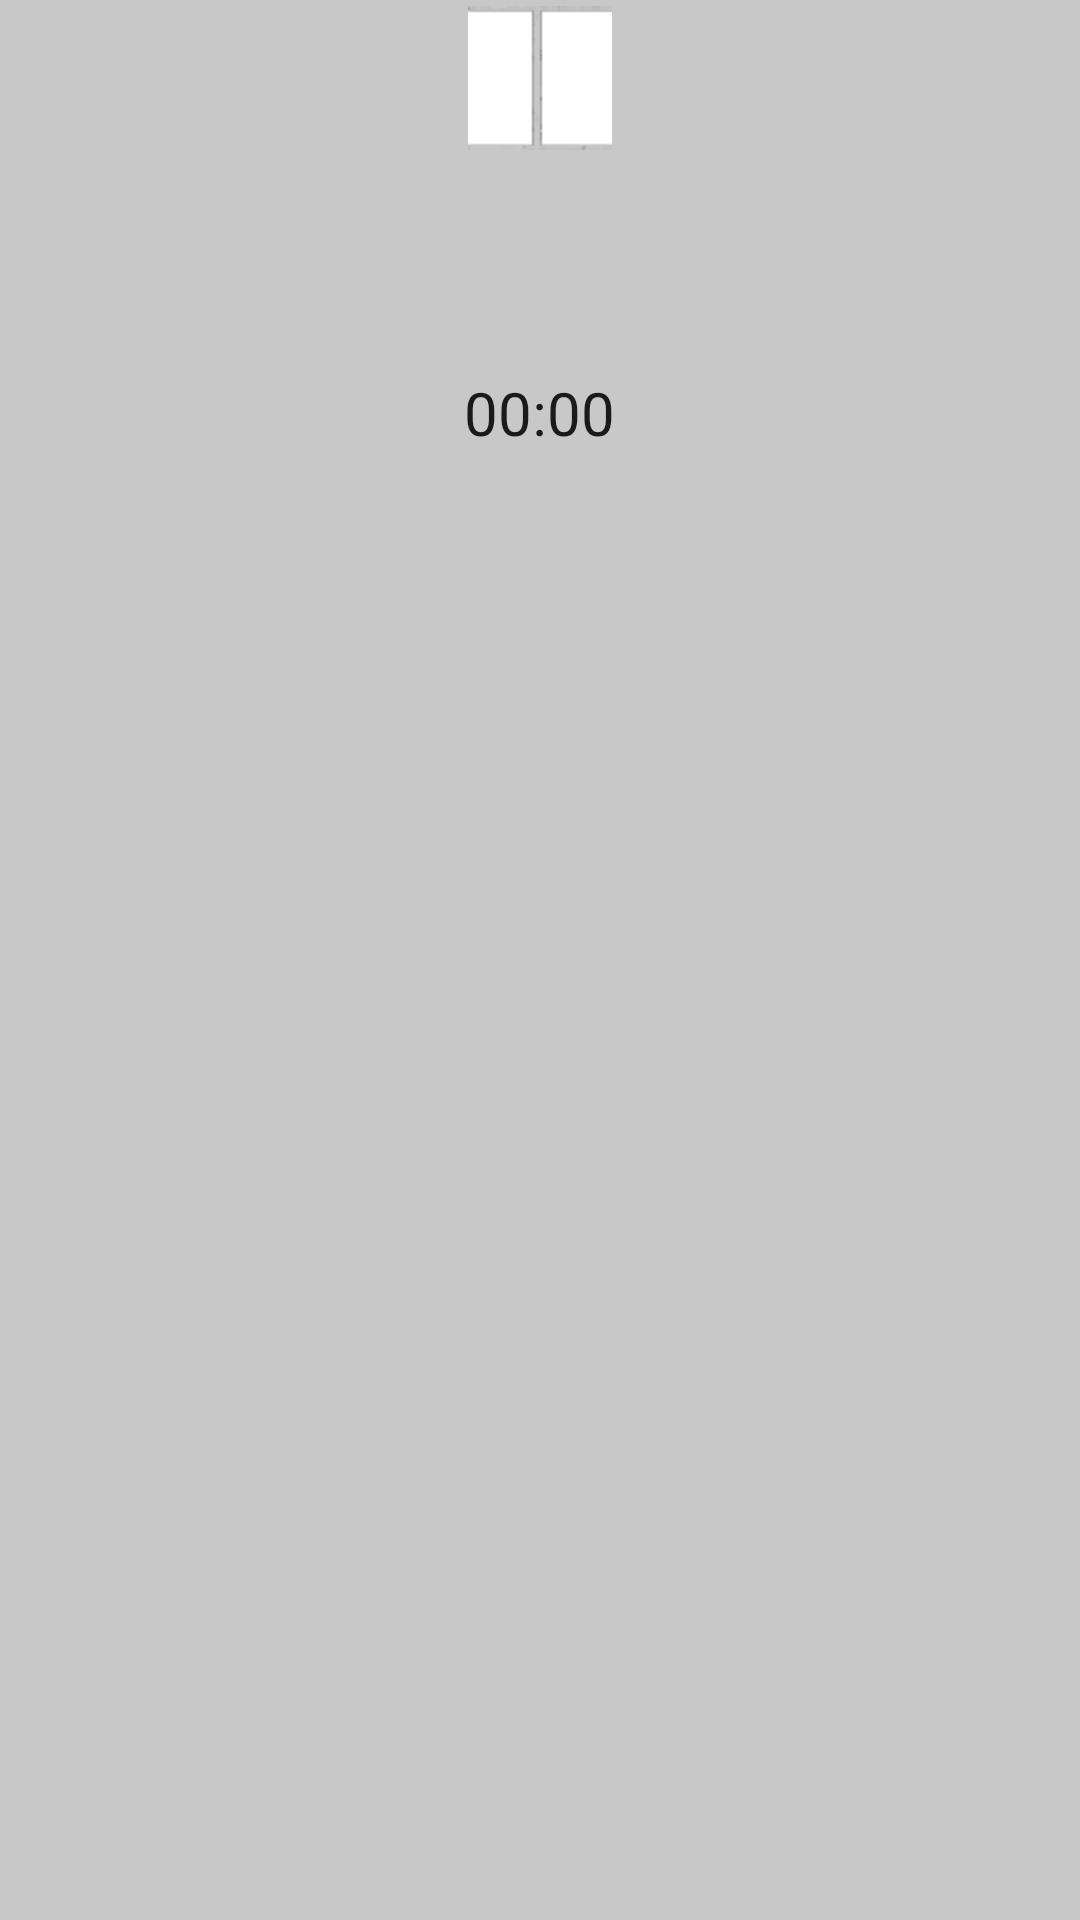

Icons on this 1080w x 1920h Android screen, each with its box as (x1, y1, x2, y2):
pause: (468, 7, 612, 150)
